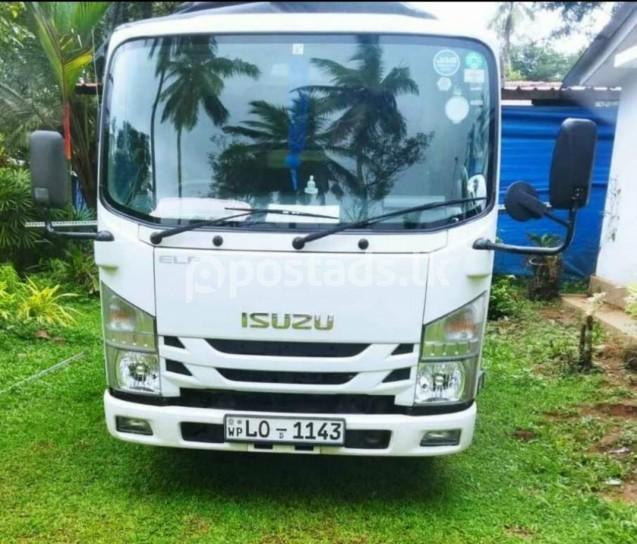truck: (30, 4, 597, 458)
